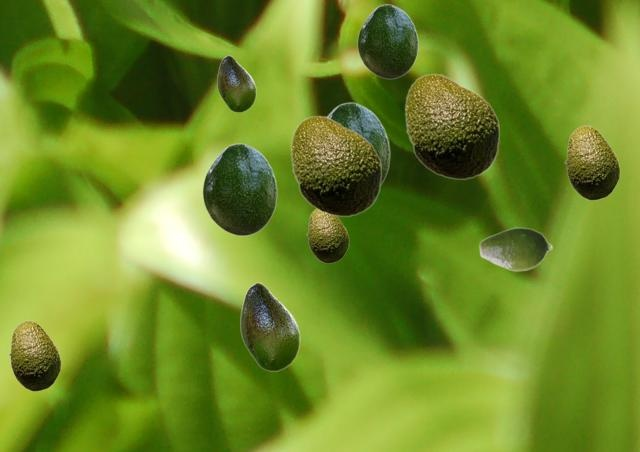avocado: (404, 73, 499, 179), (290, 115, 381, 216), (202, 143, 276, 235), (240, 282, 299, 370), (327, 102, 389, 185), (357, 4, 417, 78), (564, 125, 619, 199), (8, 320, 60, 390), (478, 226, 552, 271), (306, 209, 348, 262), (217, 55, 255, 111)
